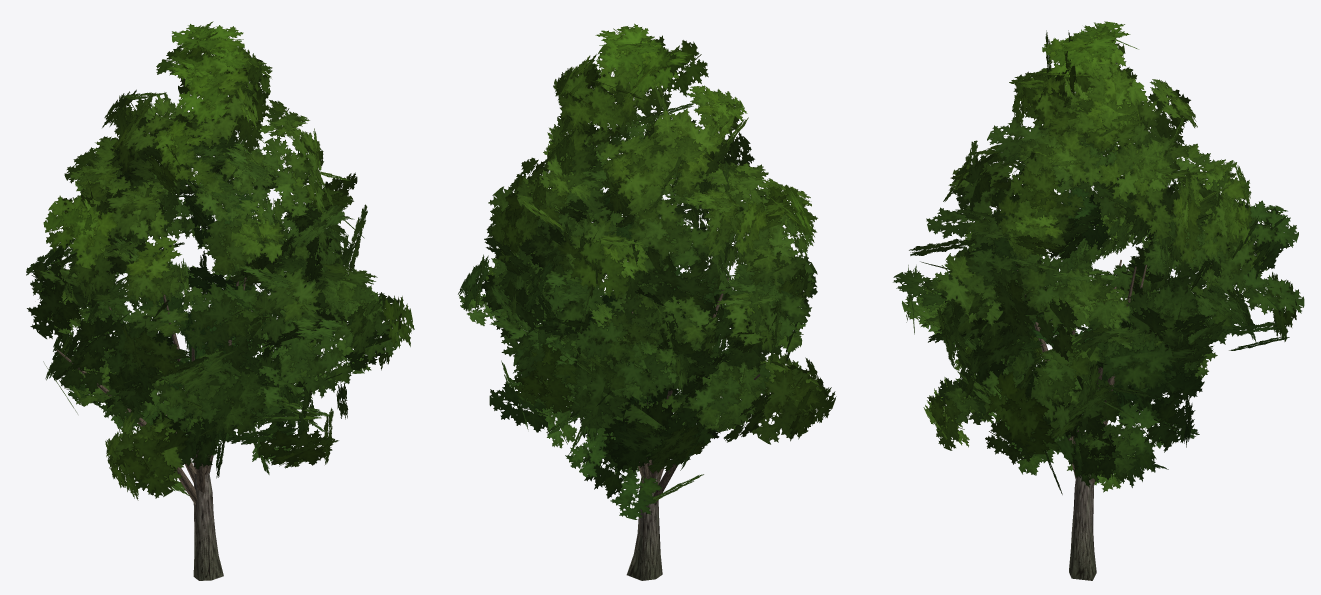
Rendered from maple-dense-lite.glb.
The picture shows the model from 3 angles, left to right: view 1: azimuth 30°, elevation 25°; view 2: azimuth 150°, elevation 25°; view 3: azimuth 270°, elevation 25°; orthographic projection.
Visible parts, largest first — view 1: Leaves, Bark; view 2: Leaves, Bark; view 3: Leaves, Bark.
Part boxes in pixels (x1,y1,x2,y2): Leaves: (26,21,414,500); Bark: (56,277,246,580); Leaves: (458,23,836,519); Bark: (626,277,760,580); Leaves: (893,21,1304,494); Bark: (1016,260,1146,580).
Size of the model in its own units: 7.57 by 11.25 by 7.9.
2 materials, 2 textured.
